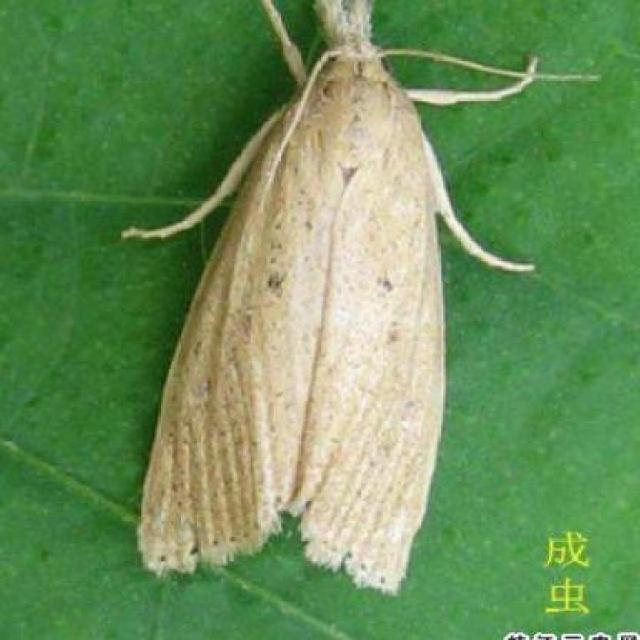stem-borer: (133, 0, 490, 600)
